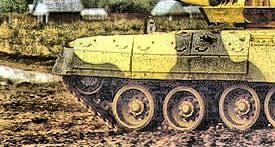tanks: (56, 1, 275, 130)
